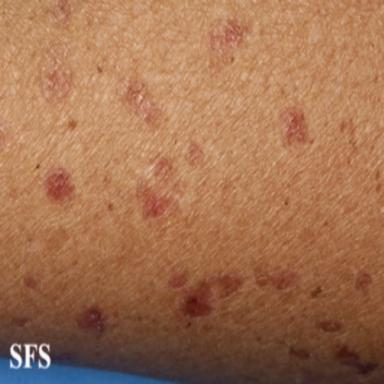Porokeratosis: (180, 270, 245, 318), (136, 156, 179, 220), (206, 15, 251, 76), (117, 77, 162, 129), (41, 43, 72, 102), (334, 344, 377, 375), (277, 107, 308, 147), (44, 167, 75, 205), (254, 267, 299, 290), (77, 307, 107, 332), (185, 139, 204, 166), (355, 273, 372, 295), (316, 320, 343, 332), (169, 271, 187, 288), (289, 346, 311, 359), (24, 277, 41, 290)
